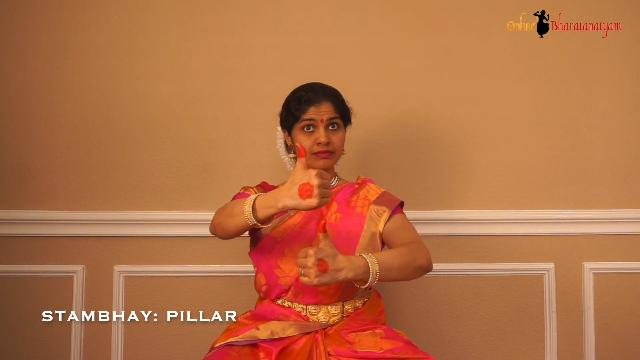shikhar: (270, 122, 354, 224), (290, 210, 360, 302)
